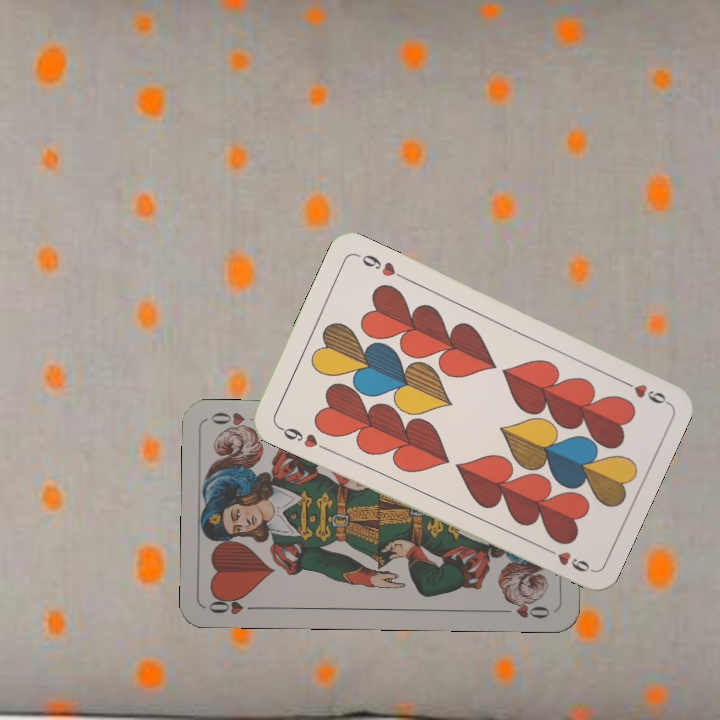H9: (614, 374, 670, 407), (273, 422, 321, 451)
HO: (204, 592, 263, 617)
